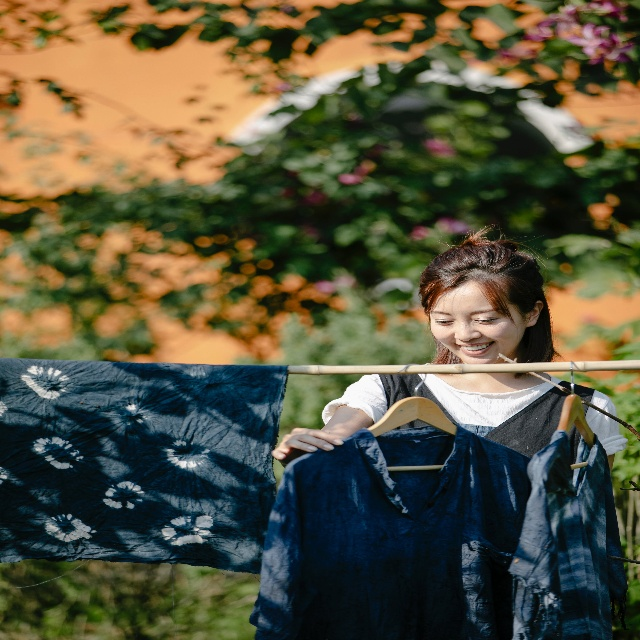Sin_guantes: (270, 425, 344, 461)
